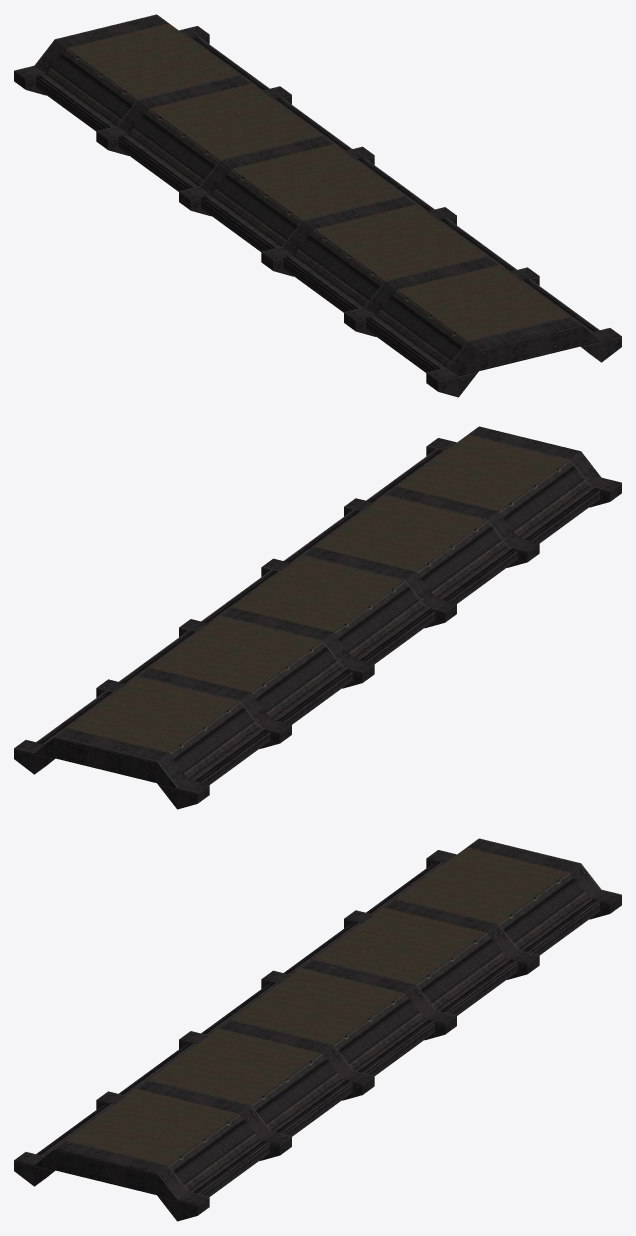
Rendered from bridge6.fbx.
3 views of the same model, one above another, from view 1: azimuth 30°, elevation 25°; view 2: azimuth 150°, elevation 25°; view 3: azimuth 330°, elevation 25° (orthographic).
Visible parts, largest first — view 1: Object; view 2: Object; view 3: Object.
Part boxes in pixels (bbox=[...]): Object: bbox=[14, 14, 621, 397]; Object: bbox=[14, 426, 621, 809]; Object: bbox=[14, 838, 621, 1221].
Bounding box in the file's own units: 1800 × 400 × 7200.
